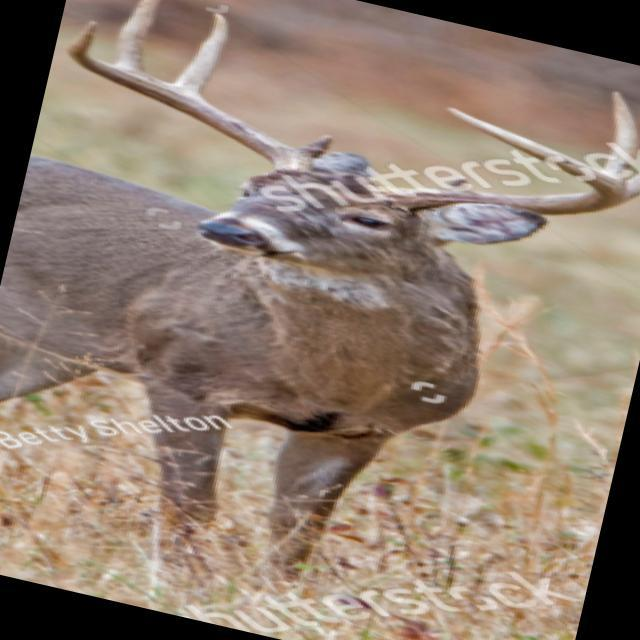L-F: (386, 107, 631, 215)
R-F: (66, 18, 315, 172)
R-G1: (297, 135, 334, 160)
R-G2: (170, 13, 229, 97)
R-G3: (113, 0, 162, 75)
